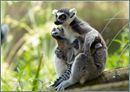cat: (52, 5, 108, 91)
